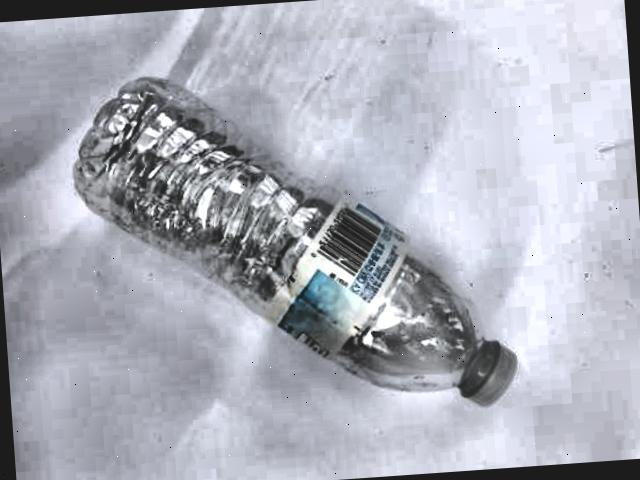Bottles: (31, 5, 596, 441)
